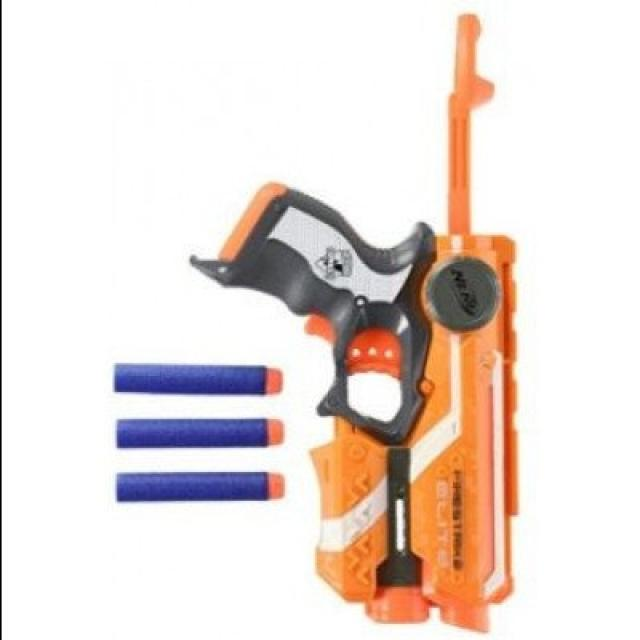Nerf gun: (196, 6, 530, 637)
